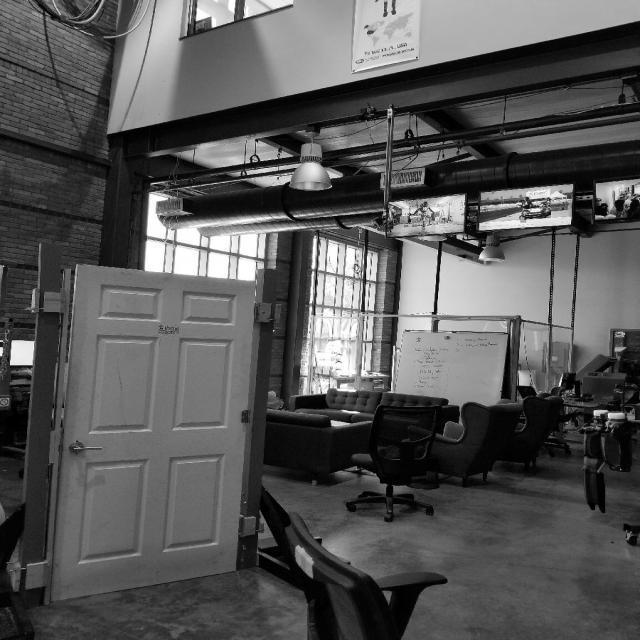door: (46, 262, 258, 604), (66, 438, 106, 454)
